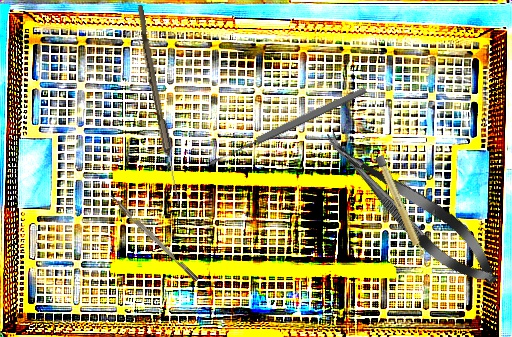Chopper: (102, 189, 199, 287)
Micro Scissor: (311, 117, 510, 299)
Scalpel Handle: (374, 154, 427, 261)
Surgical Spoon: (207, 84, 369, 168), (132, 4, 185, 206)
